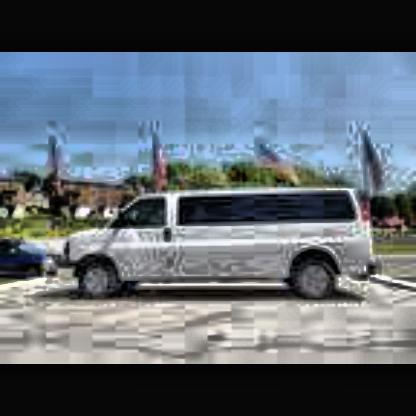GMC Savana Van 2012: (62, 183, 385, 307)
